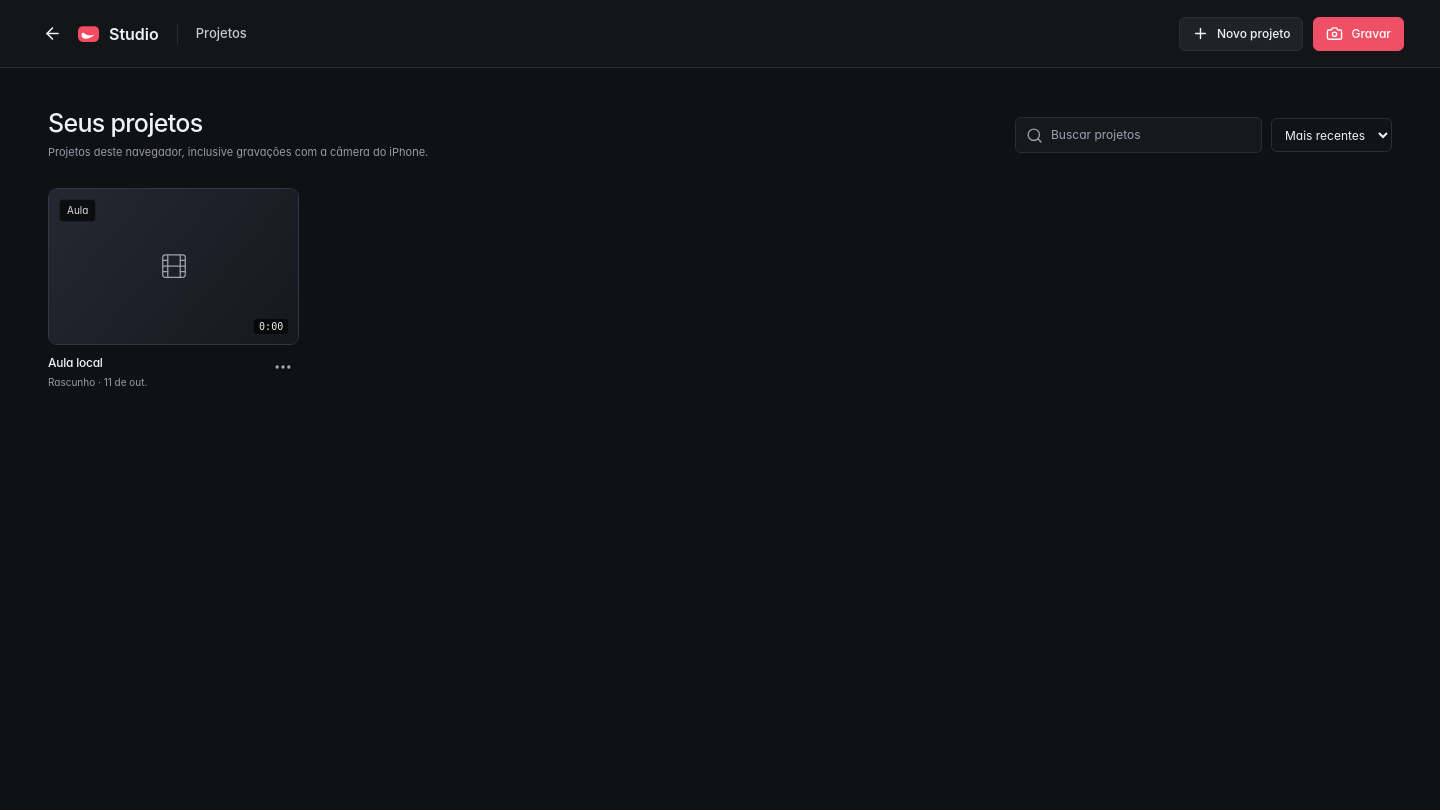
it: galeria desktop de projetos reais › a escrita da conta antiga não mantém a galeria nova ocupada nem fecha seu menu
Step 1. Click the button named "Opções de Aula local" → (283,367), box [267,351,299,383]
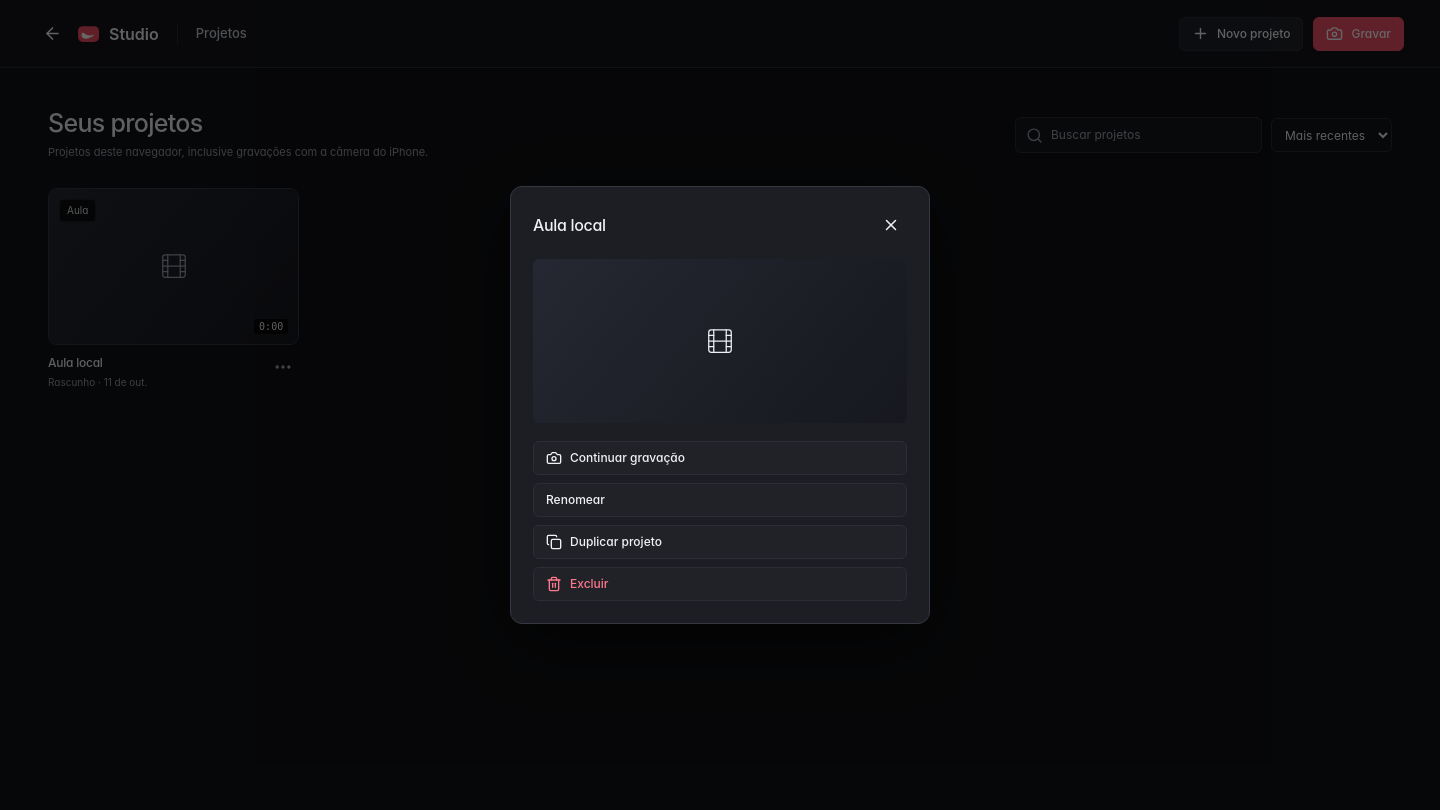
Expected: the button "Excluir" is shown
Step 2. Click the button "Excluir" → (589,583), box [533,567,907,601]
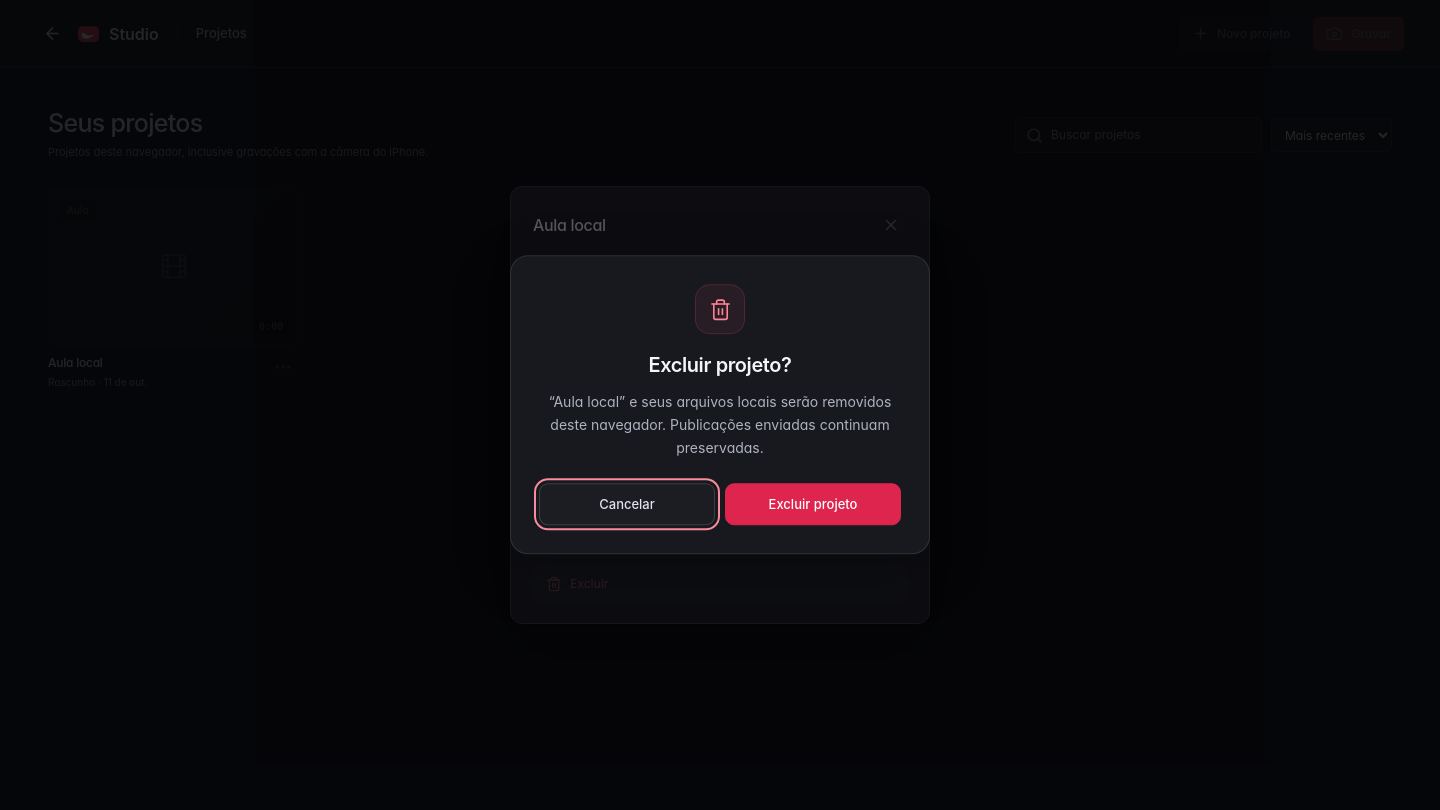
Expected: the button "Excluir projeto" is shown
Step 3. Click the button "Excluir projeto" → (813,505), box [725,484,901,526]
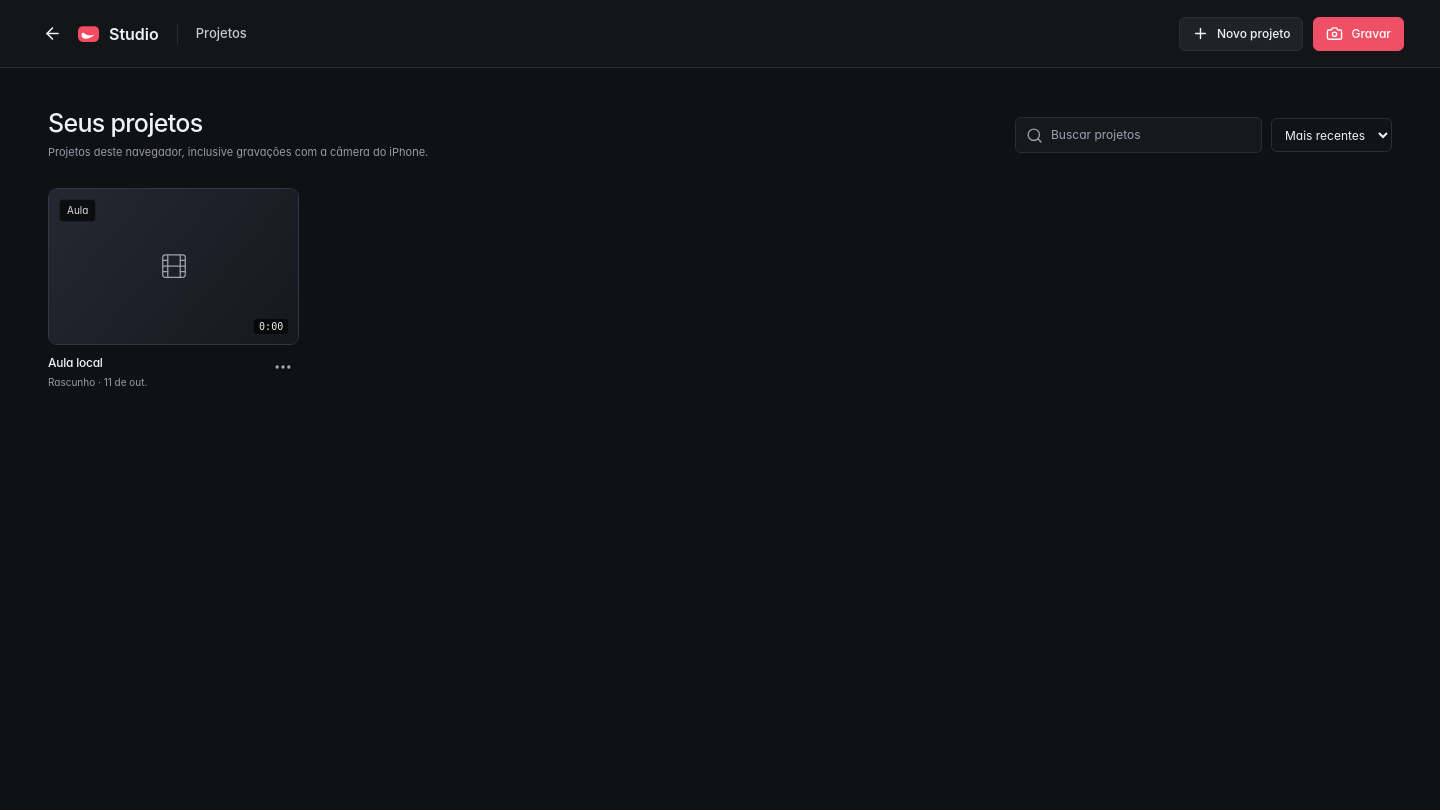
Step 4. Click the button named "Opções de Aula local" → (283,367), box [267,351,299,383]
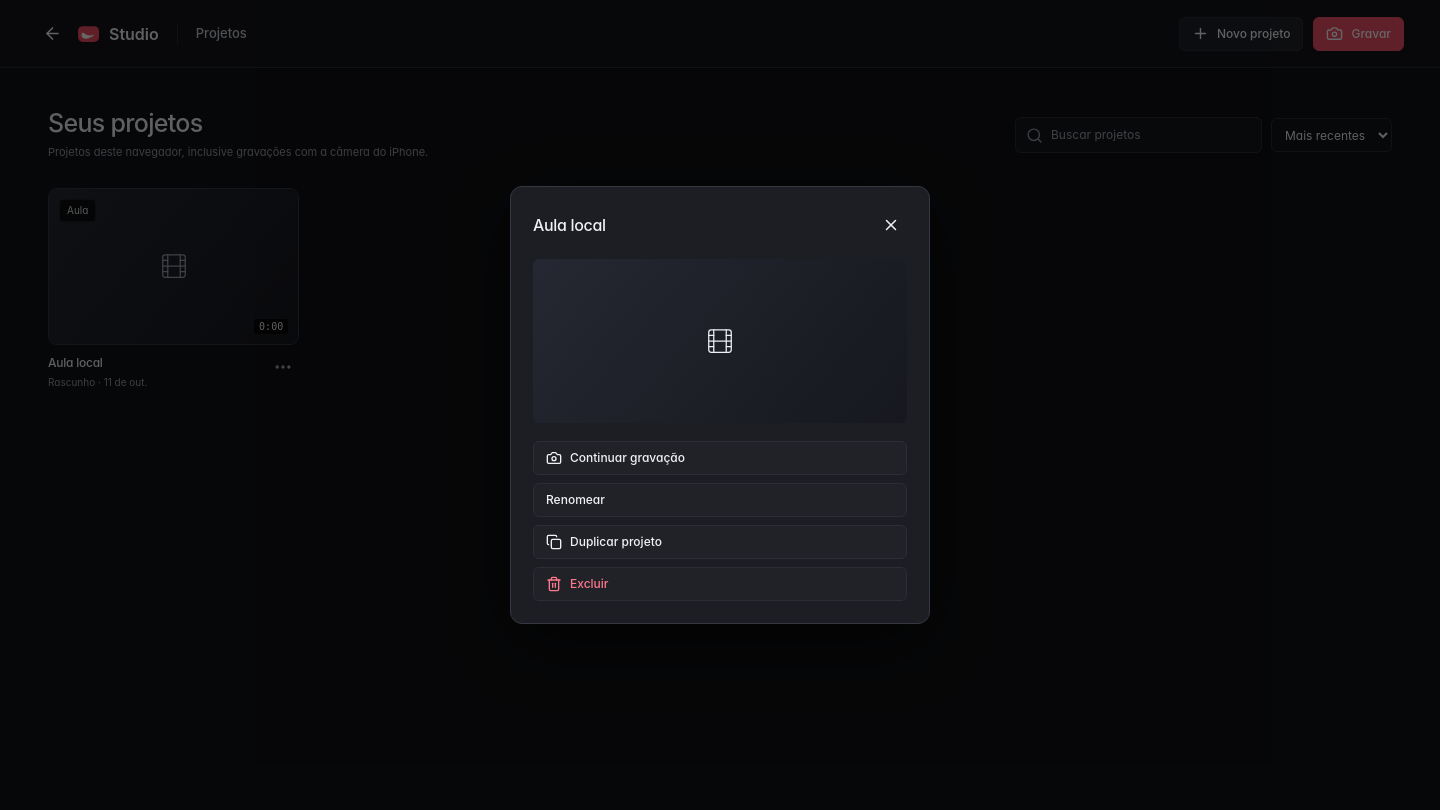
Expected: the button named "Opções de Aula local" is enabled, [267,351,299,383]
Expected: the dialog shows "Duplicar projeto", [533,525,907,559]
